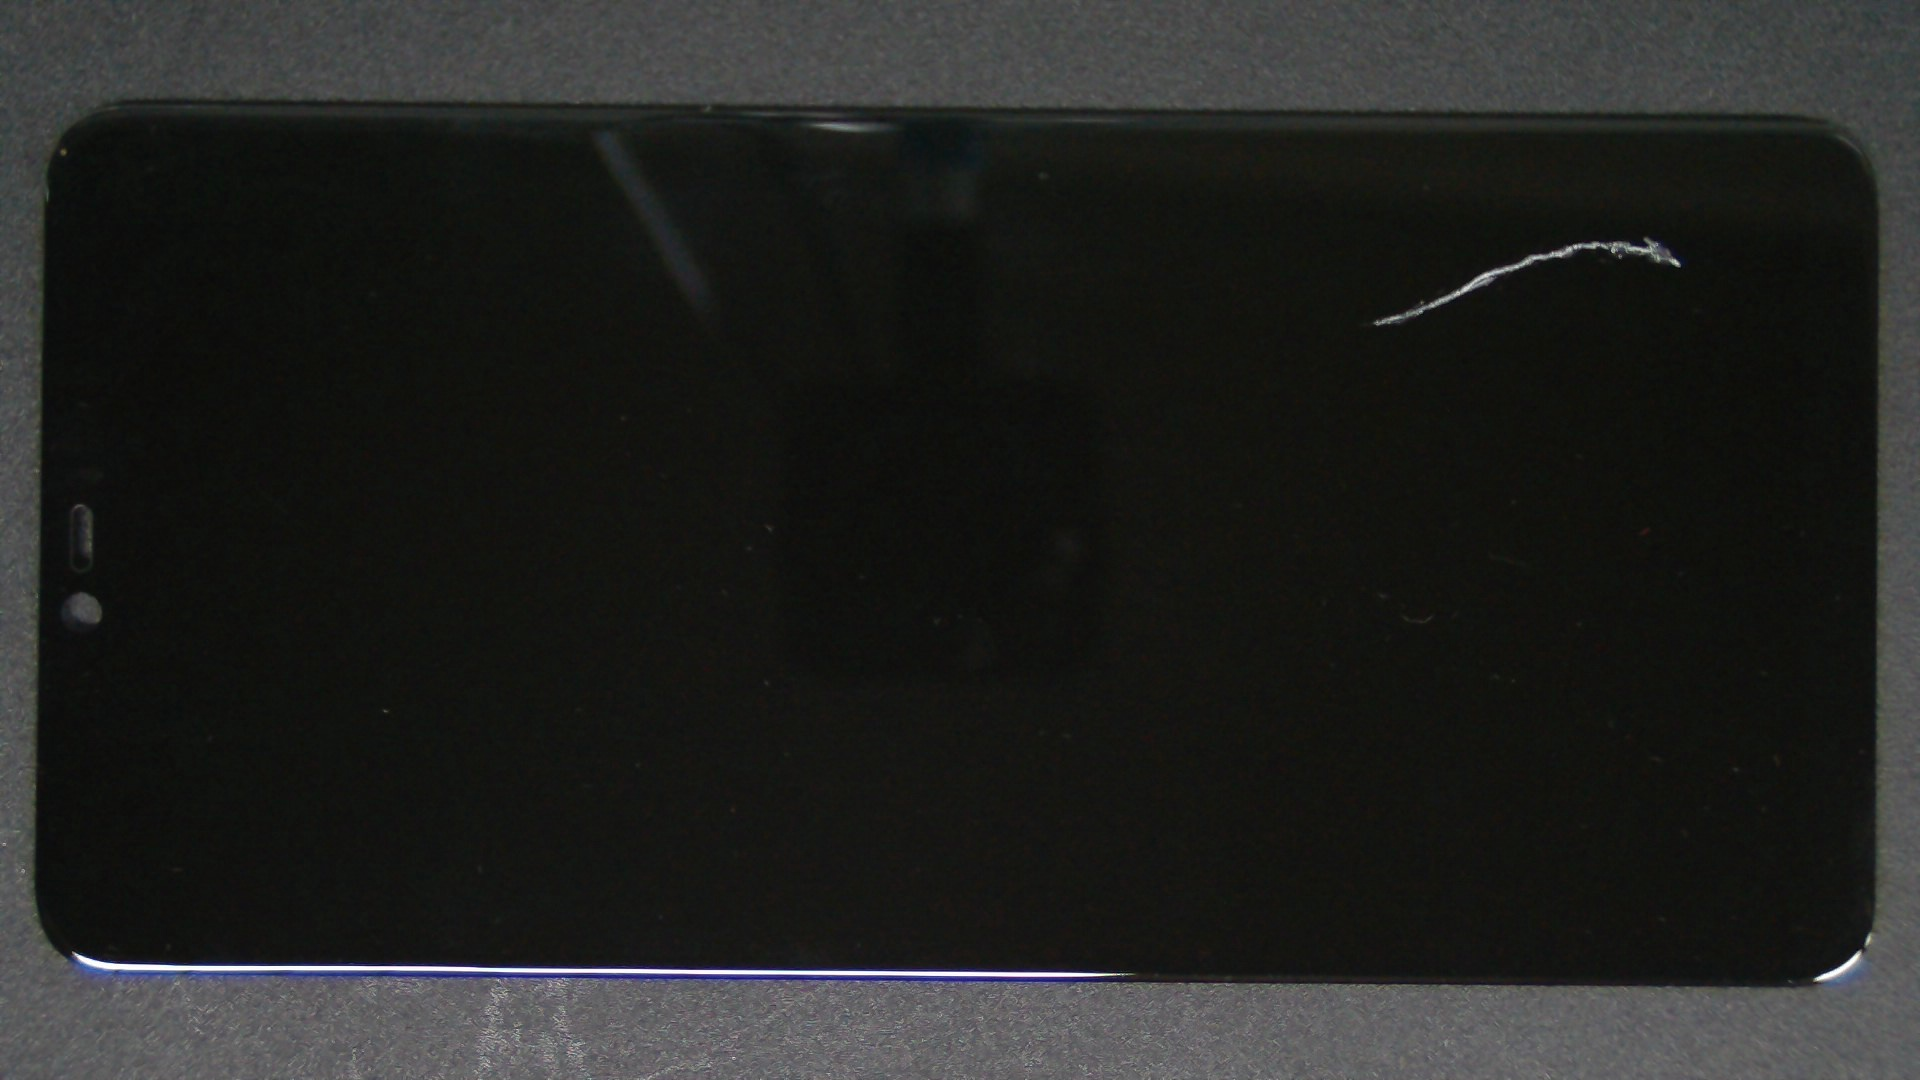oil: (823, 116, 1920, 352)
